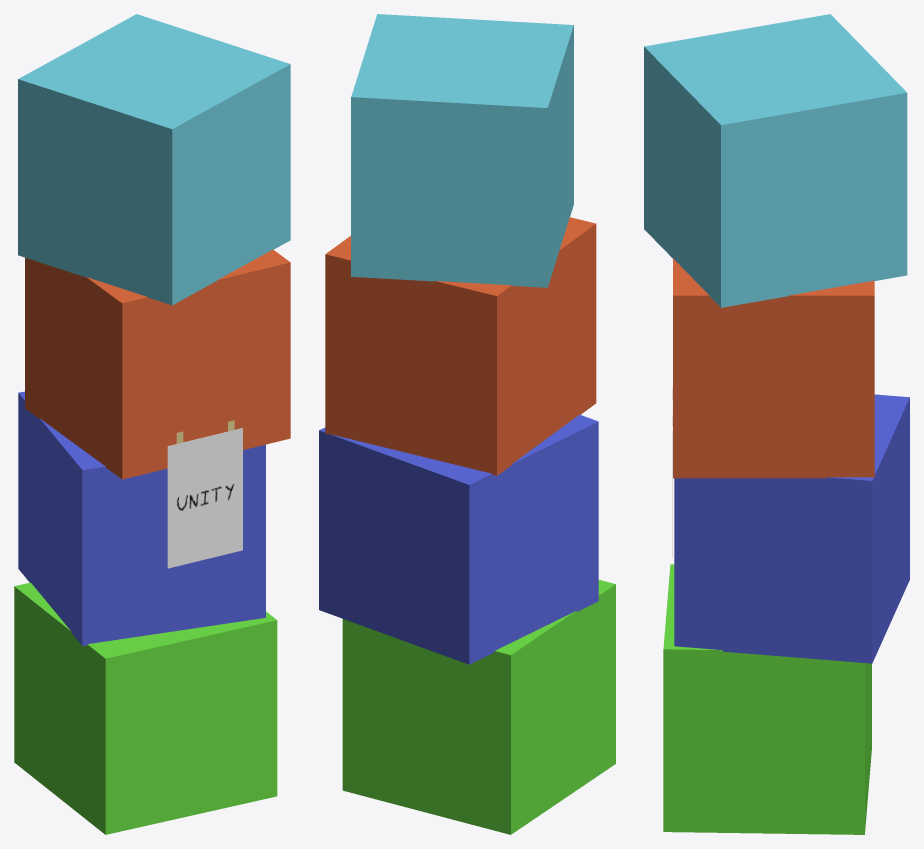
Rendered from Unity Blocks.gltf.
3 renders of one model, left to right at view 1: azimuth 30°, elevation 25°; view 2: azimuth 150°, elevation 25°; view 3: azimuth 270°, elevation 25°, orthographic. The views are drawn at different scales.
Visible parts, largest first — view 1: Pink Cube.001, Violet Cube, Pink Cube, Yellow Cube, Java Paper.001; view 2: Pink Cube.001, Yellow Cube, Pink Cube, Violet Cube; view 3: Pink Cube.001, Yellow Cube, Pink Cube, Violet Cube.
Part boxes in pixels (box(x1,y1,x2,y2)): Pink Cube.001: box(18, 14, 290, 305); Violet Cube: box(14, 582, 277, 834); Pink Cube: box(25, 249, 290, 479); Yellow Cube: box(18, 391, 265, 646); Java Paper.001: box(167, 428, 242, 568); Pink Cube.001: box(351, 14, 573, 287); Yellow Cube: box(319, 414, 598, 664); Pink Cube: box(325, 217, 596, 475); Violet Cube: box(342, 579, 615, 834); Pink Cube.001: box(644, 14, 907, 307); Yellow Cube: box(674, 394, 909, 663); Pink Cube: box(673, 258, 874, 478); Violet Cube: box(663, 564, 871, 834).
Bounding box in the file's own units: 1.54 × 4.7 × 1.55.
7 materials, 1 textured.
